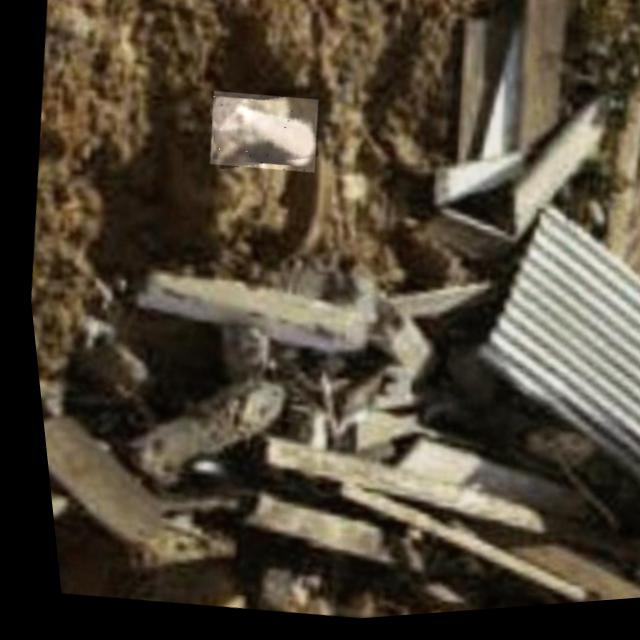Person in Rubble: (199, 88, 320, 183)
